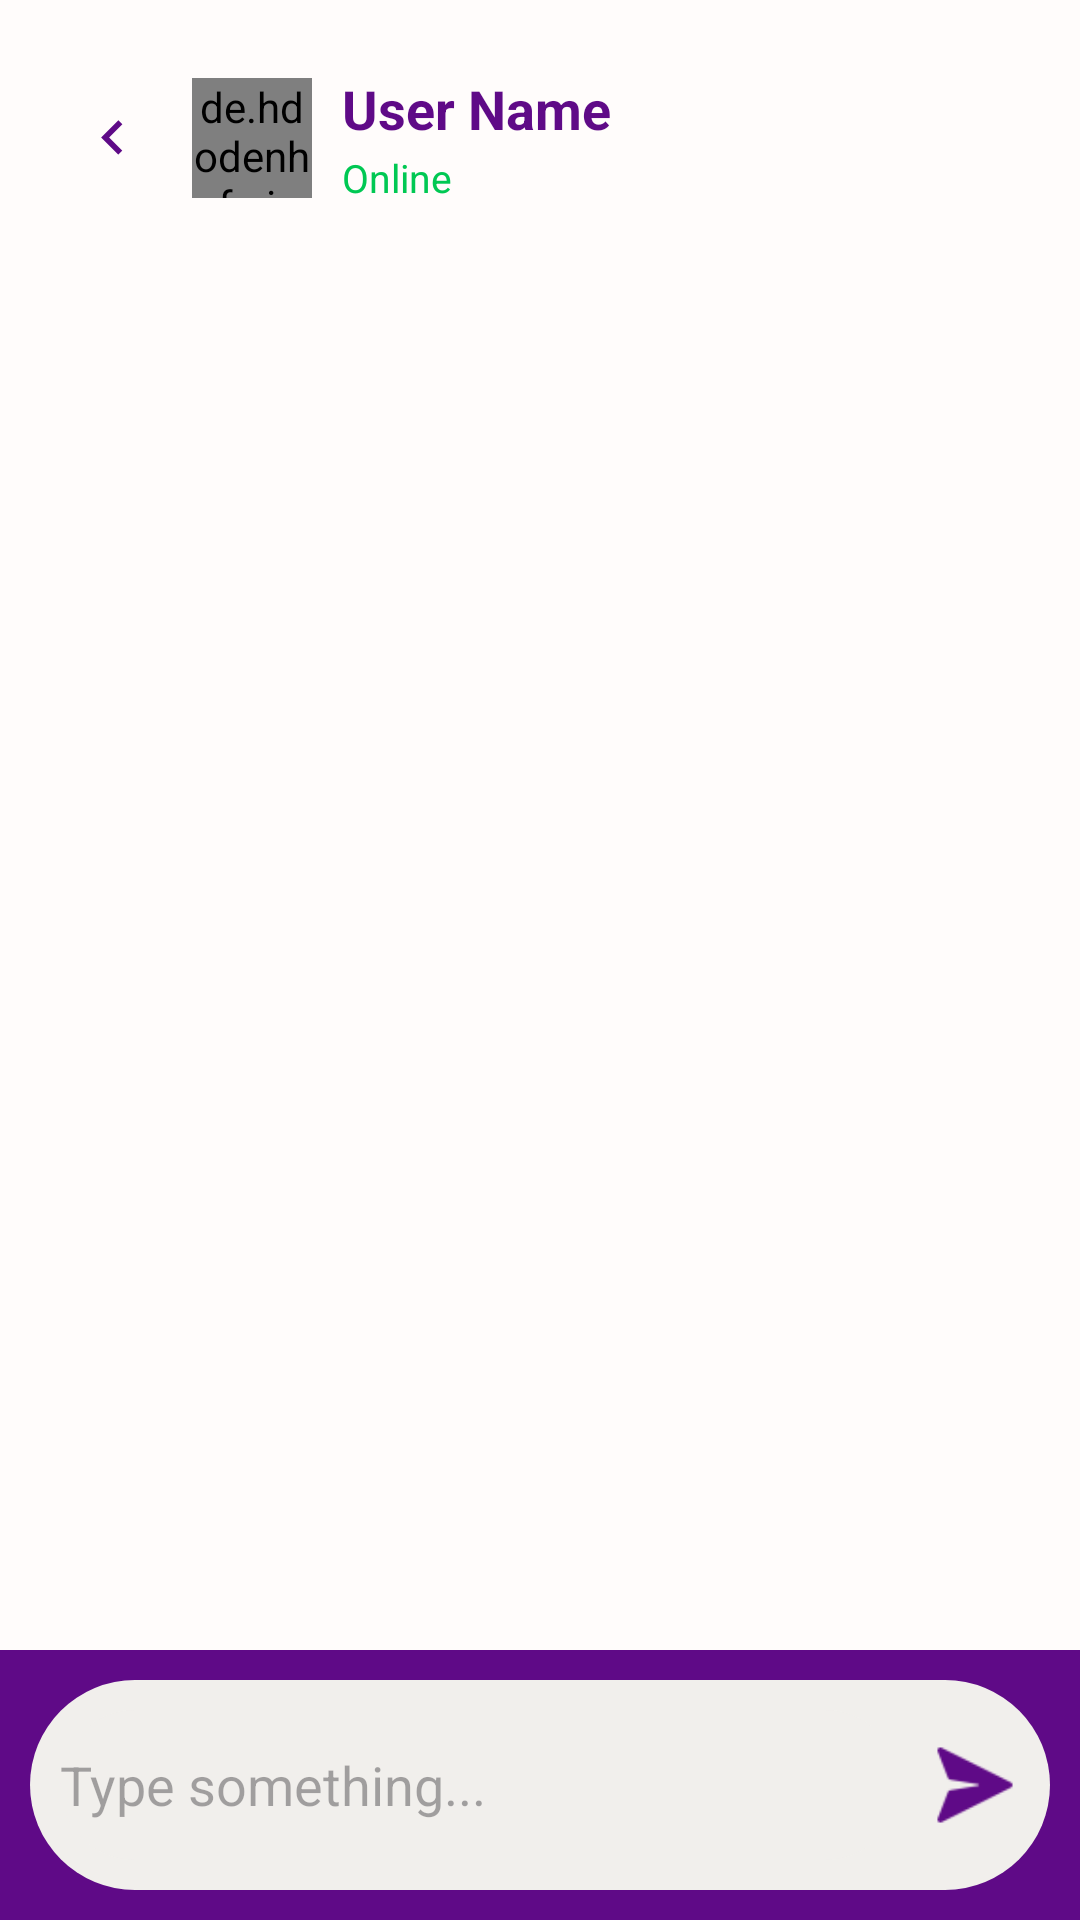

Icon click points for this 1080*1920 phone screenshot, format (x=x, y=y):
chevron backward: (x=112, y=137)
sendicon: (x=975, y=1785)
